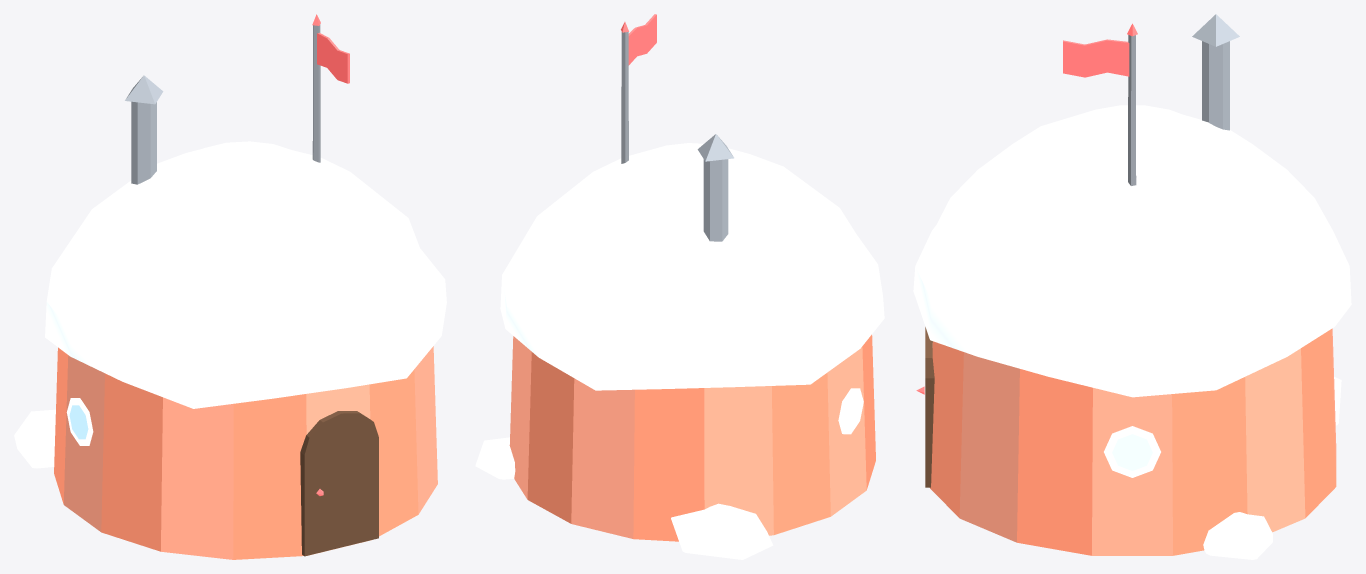
The model's file is ice-hut.glb.
3 views of the same model, side by side, from view 1: azimuth 30°, elevation 25°; view 2: azimuth 150°, elevation 25°; view 3: azimuth 270°, elevation 25° (orthographic). The views are drawn at different scales.
Parts seen in each view (by area): view 1: ice-hut; view 2: ice-hut; view 3: ice-hut.
Part boxes in pixels (left/top/right/bottom): ice-hut: left=14, top=14, right=446, bottom=559; ice-hut: left=475, top=14, right=884, bottom=559; ice-hut: left=913, top=14, right=1351, bottom=559.
Bounding box in the file's own units: 4.72 × 5.75 × 4.72.
